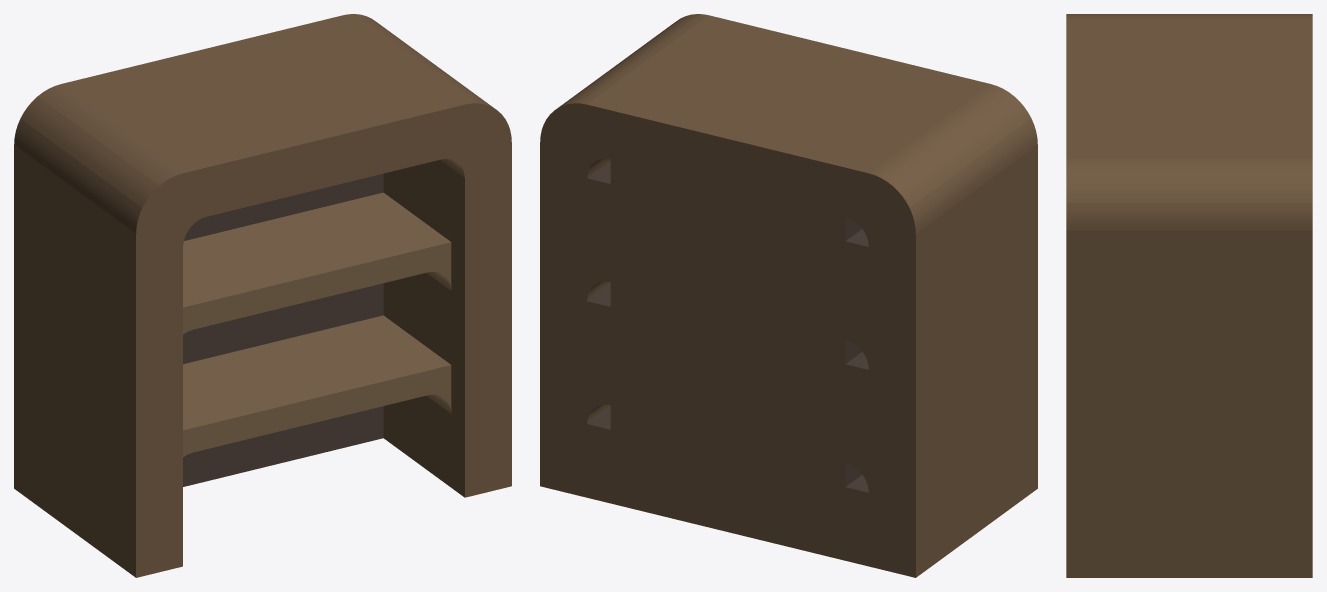
The model's file is drawer.glb.
3 views of the same model, side by side, from view 1: azimuth 30°, elevation 25°; view 2: azimuth 150°, elevation 25°; view 3: azimuth 270°, elevation 25° (orthographic).
Visible parts, largest first — view 1: generated(Clone); view 2: generated(Clone); view 3: generated(Clone).
Part boxes in pixels (left/top/right/bottom): generated(Clone): left=14, top=14, right=511, bottom=577; generated(Clone): left=540, top=14, right=1037, bottom=577; generated(Clone): left=1066, top=14, right=1312, bottom=577.
Bounding box in the file's own units: 8 × 8 × 4.5.
